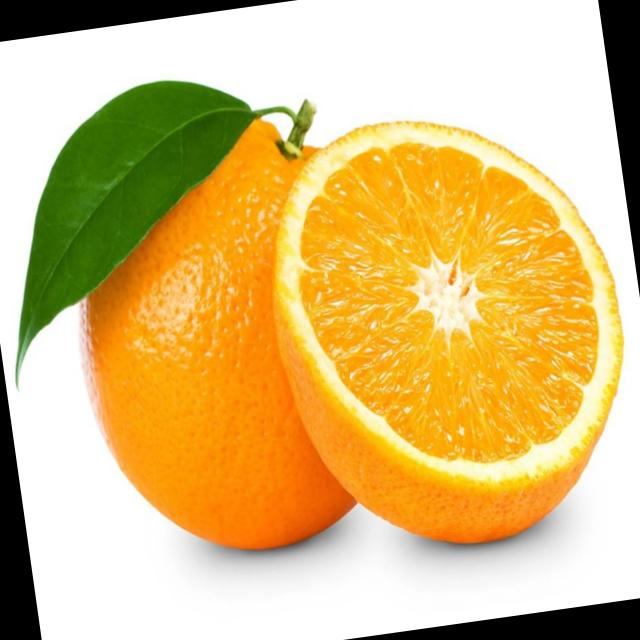orange: (34, 85, 426, 592)
